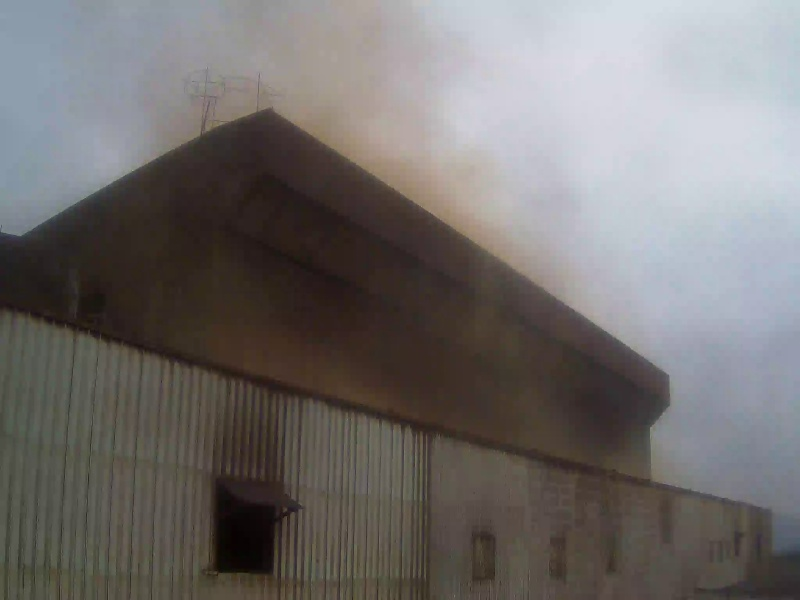Pessimo: (174, 7, 547, 431)
